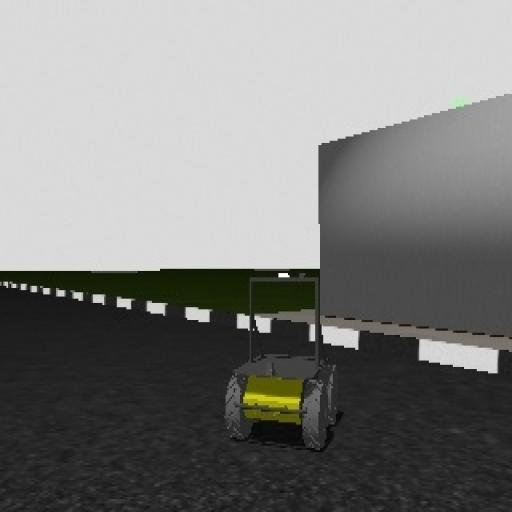huskya200: (217, 264, 351, 456)
